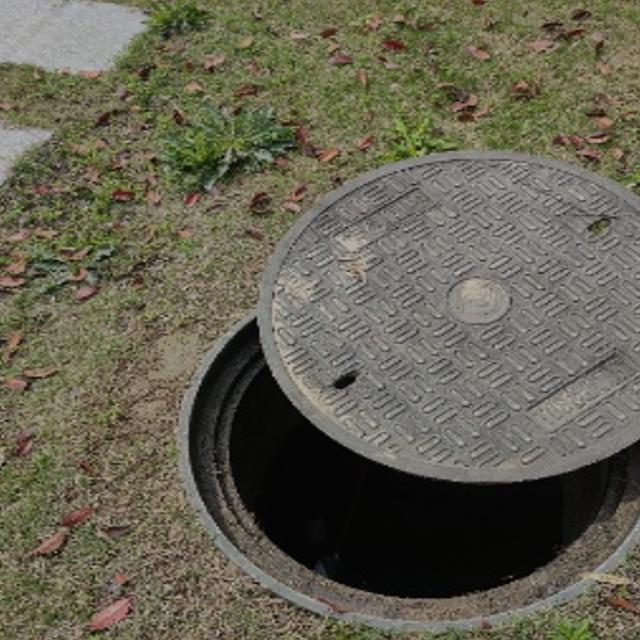uncovered: (177, 150, 640, 629)
